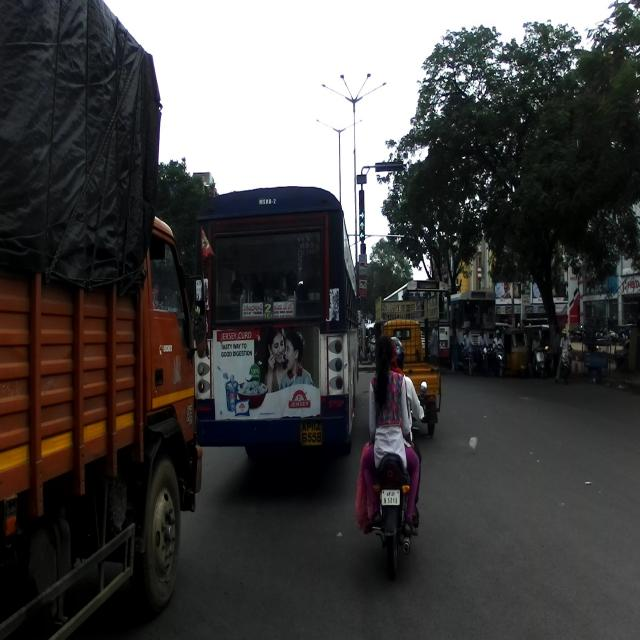autorickshaw: (373, 292, 442, 438)
bus: (192, 185, 360, 470)
motorcycle_Hero: (366, 376, 429, 589)
truck: (0, 0, 202, 636)
